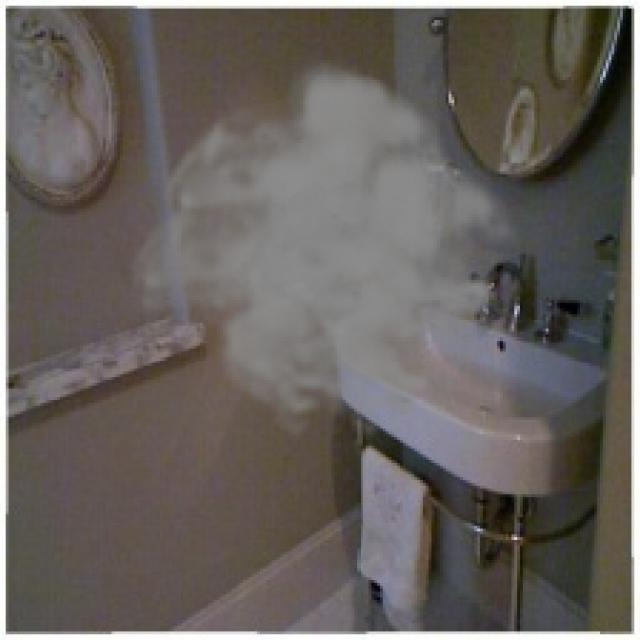Smoke: (122, 57, 534, 440)
